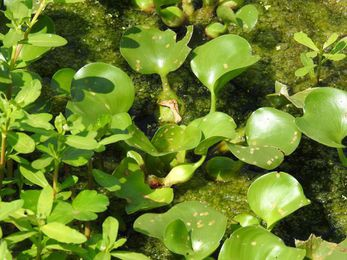water_hyacinth: (1, 1, 346, 259)
